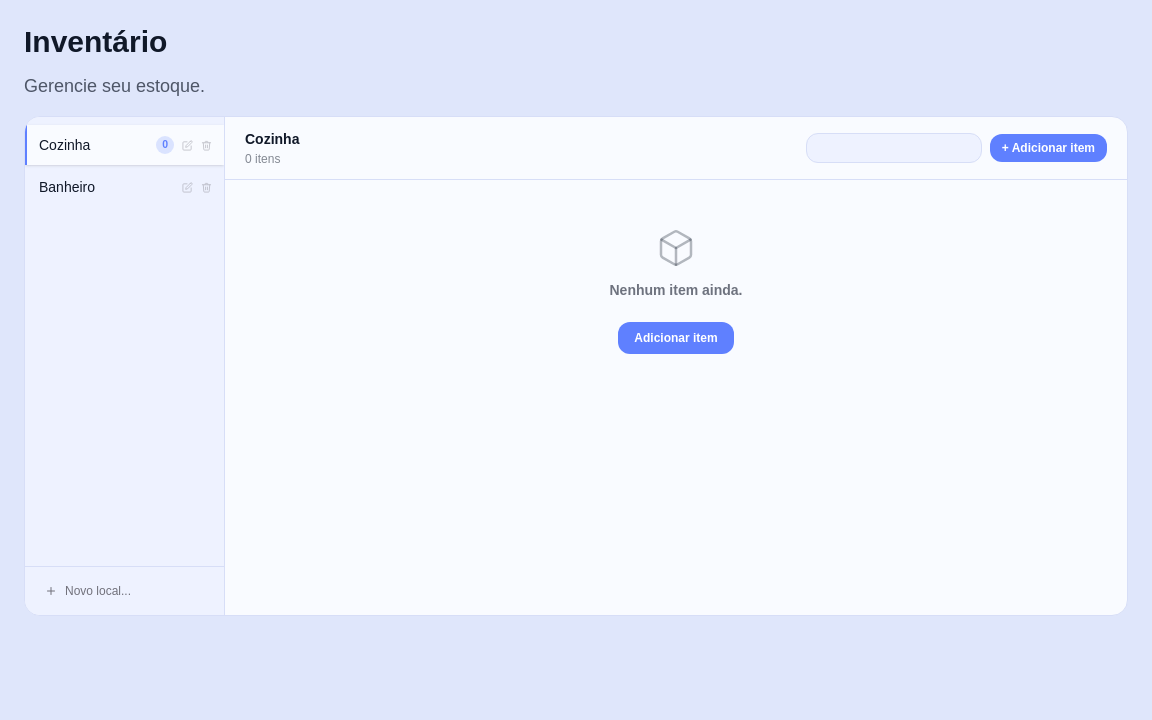
InventoryClient › adds a new location on button click
This screenshot has width=1152, height=720.
Click the button "Novo local...".
click(124, 591)  # box x1=33 y1=575 x2=216 y2=607
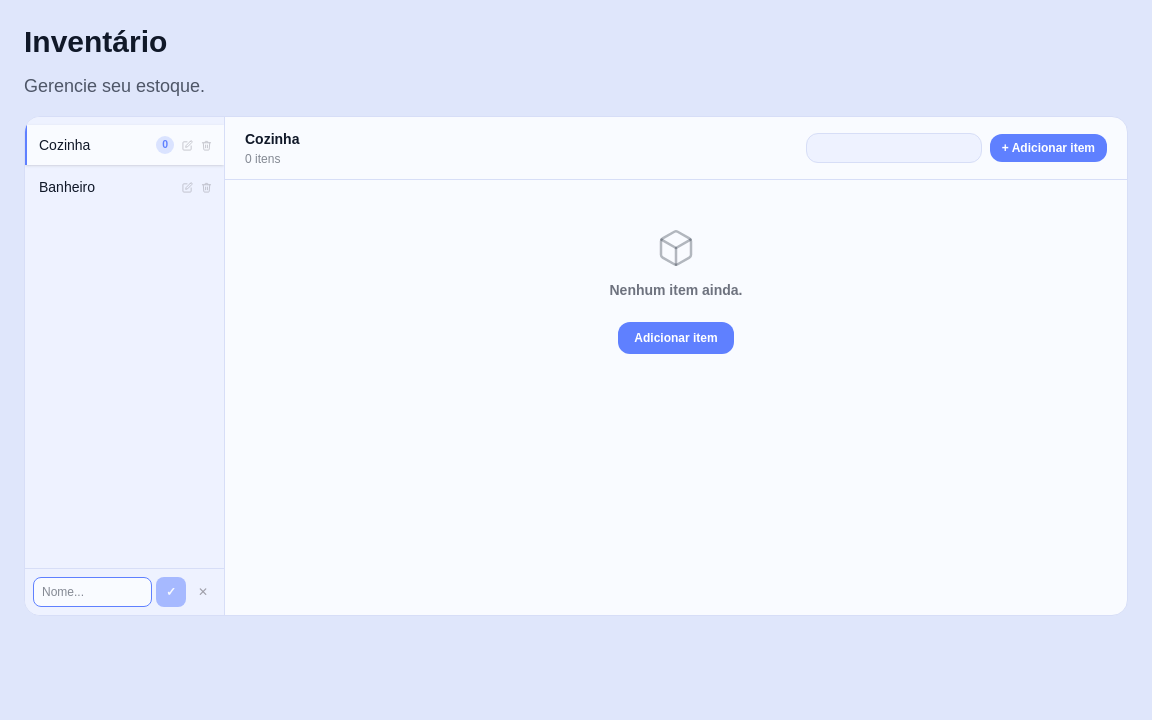
Type "Escritório" into the field with placeholder "Nome...".
click(92, 592); type("Escritório")  # box x1=33 y1=577 x2=152 y2=607
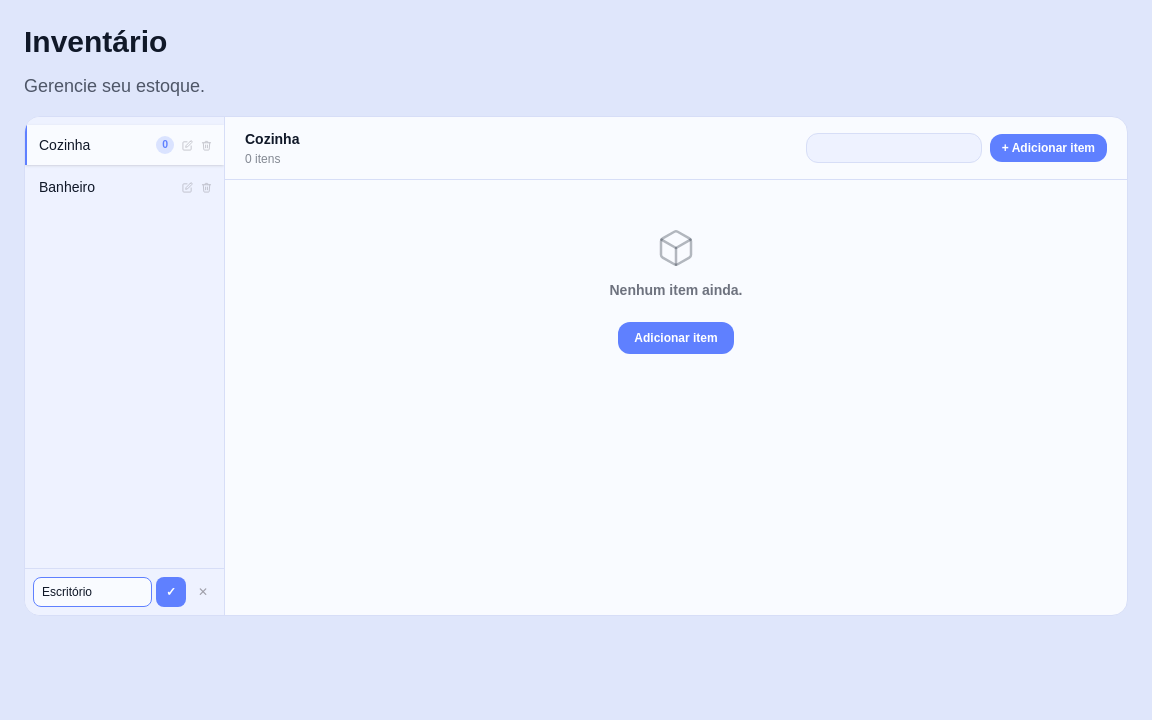
Click the button "✓".
click(171, 592)  # box x1=156 y1=577 x2=186 y2=607
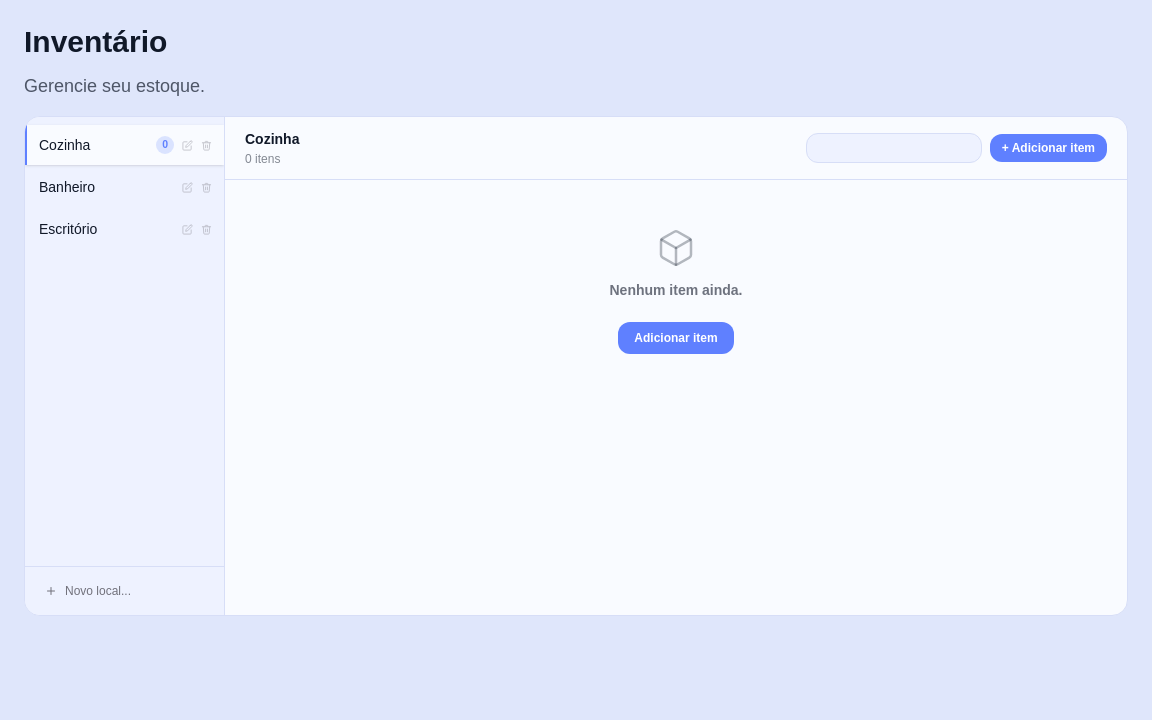
Expected: the button "Escritório" is shown, x1=39 y1=219 x2=170 y2=239
